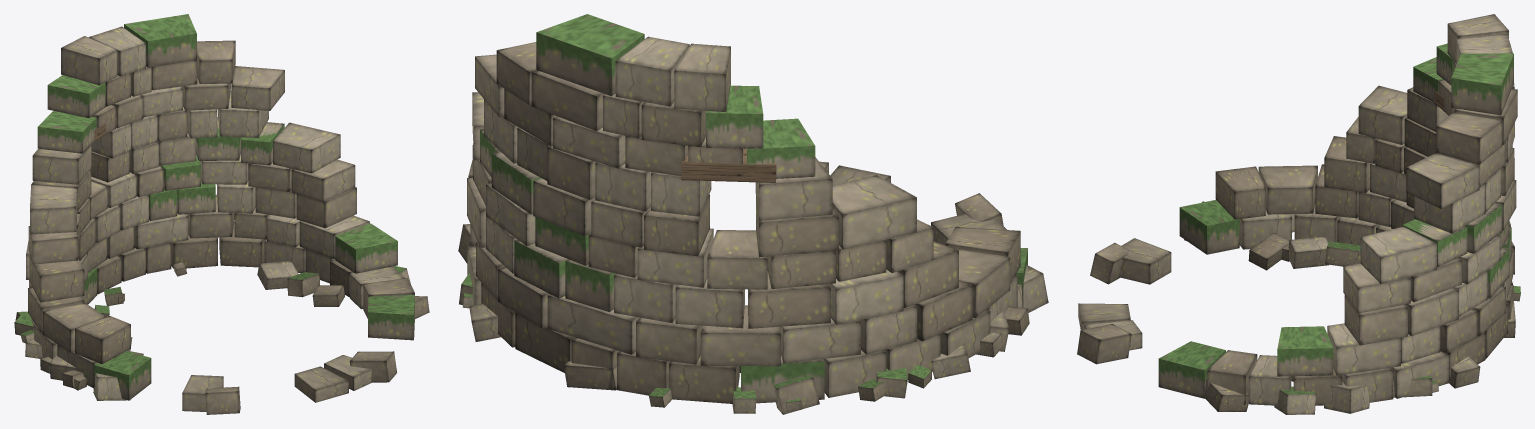
Rendered from tower_ruin.glb.
3 views of the same model, side by side, from view 1: azimuth 30°, elevation 25°; view 2: azimuth 150°, elevation 25°; view 3: azimuth 270°, elevation 25° (orthographic). The views are drawn at different scales.
Parts seen in each view (by area): view 1: tower_ruin; view 2: tower_ruin; view 3: tower_ruin.
Boxes of the visible parts, box(x1,y1,x2,y2) form: tower_ruin: box(14, 14, 429, 414); tower_ruin: box(458, 14, 1048, 414); tower_ruin: box(1077, 14, 1520, 414).
Bounding box in the file's own units: 2.08 × 1.32 × 1.96.
1 material, 1 textured.
